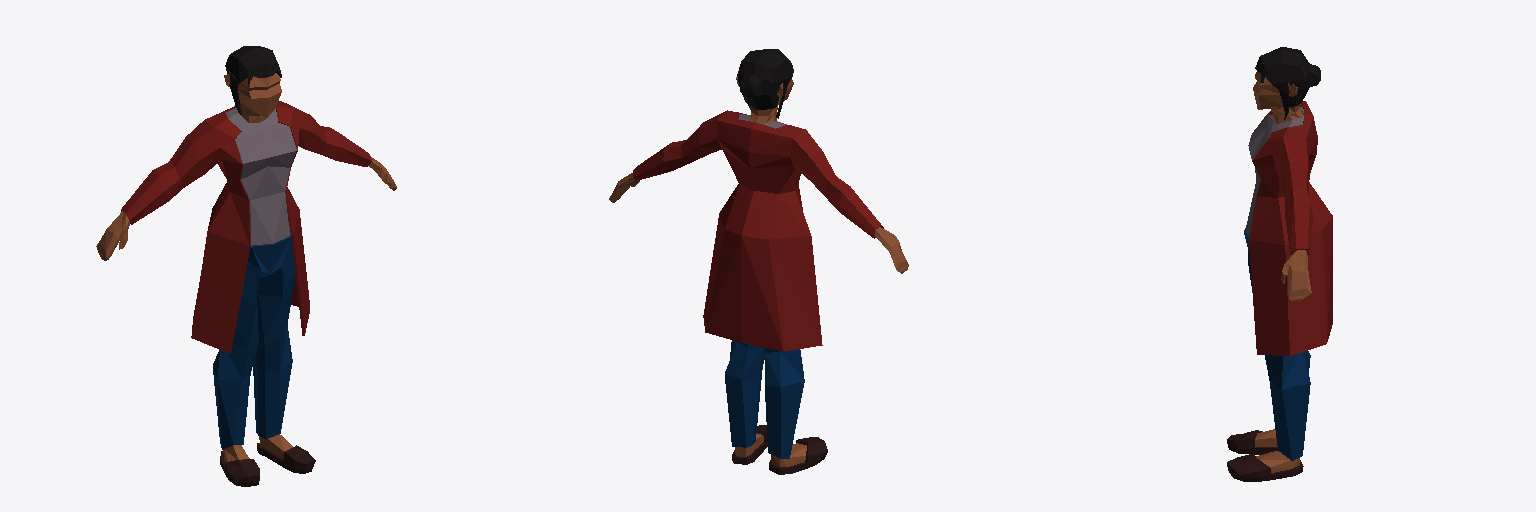
The model's file is OwnerAttempt3.obj.
3 views of the same model, side by side, from view 1: azimuth 30°, elevation 25°; view 2: azimuth 150°, elevation 25°; view 3: azimuth 270°, elevation 25° (orthographic).
Parts seen in each view (by area): view 1: Cube.006_Cube.008, Cube.004_Cube.006, Cube.005_Cube.007, Cube.002_Cube.004, Cube.007_Cube.009, Cube.003_Cube.005; view 2: Cube.006_Cube.008, Cube.004_Cube.006, Cube.003_Cube.005, Cube.002_Cube.004, Cube.007_Cube.009; view 3: Cube.006_Cube.008, Cube.004_Cube.006, Cube.002_Cube.004, Cube.003_Cube.005, Cube.007_Cube.009, Cube.005_Cube.007.
Boxes of the visible parts, <box> form: Cube.006_Cube.008: <box>121,101,371,353</box>; Cube.004_Cube.006: <box>213,234,295,449</box>; Cube.005_Cube.007: <box>226,108,296,245</box>; Cube.002_Cube.004: <box>96,73,396,461</box>; Cube.007_Cube.009: <box>220,443,315,486</box>; Cube.003_Cube.005: <box>225,46,281,114</box>; Cube.006_Cube.008: <box>633,110,883,351</box>; Cube.004_Cube.006: <box>725,340,804,458</box>; Cube.003_Cube.005: <box>737,49,793,118</box>; Cube.002_Cube.004: <box>609,77,908,466</box>; Cube.007_Cube.009: <box>732,425,827,474</box>; Cube.006_Cube.008: <box>1249,101,1332,355</box>; Cube.004_Cube.006: <box>1244,228,1310,460</box>; Cube.002_Cube.004: <box>1253,71,1311,472</box>; Cube.003_Cube.005: <box>1255,47,1320,119</box>; Cube.007_Cube.009: <box>1227,430,1303,481</box>; Cube.005_Cube.007: <box>1245,107,1303,236</box>.
Size of the model in its own units: 12.5 by 17.03 by 3.95.